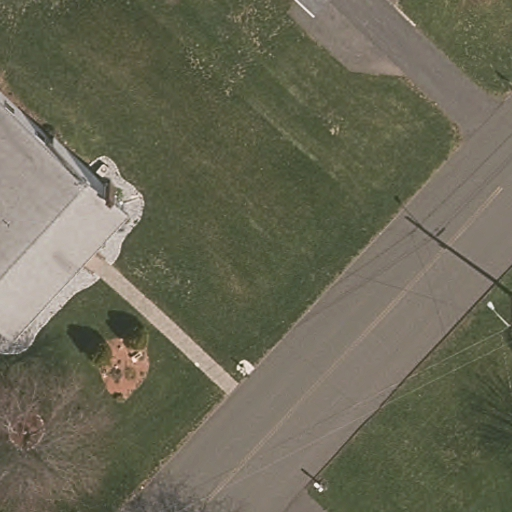DT: (309, 478, 332, 500)
